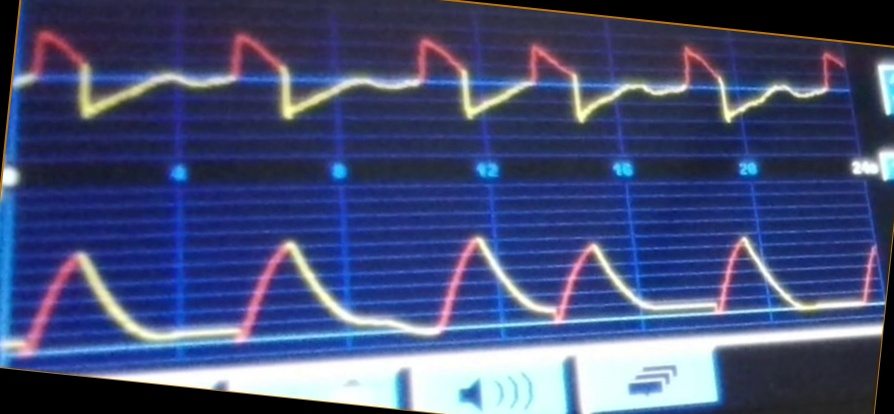Ineffective_effort Flow: (20, 25, 842, 135)
Ineffective_effort Volume: (12, 225, 878, 359)
